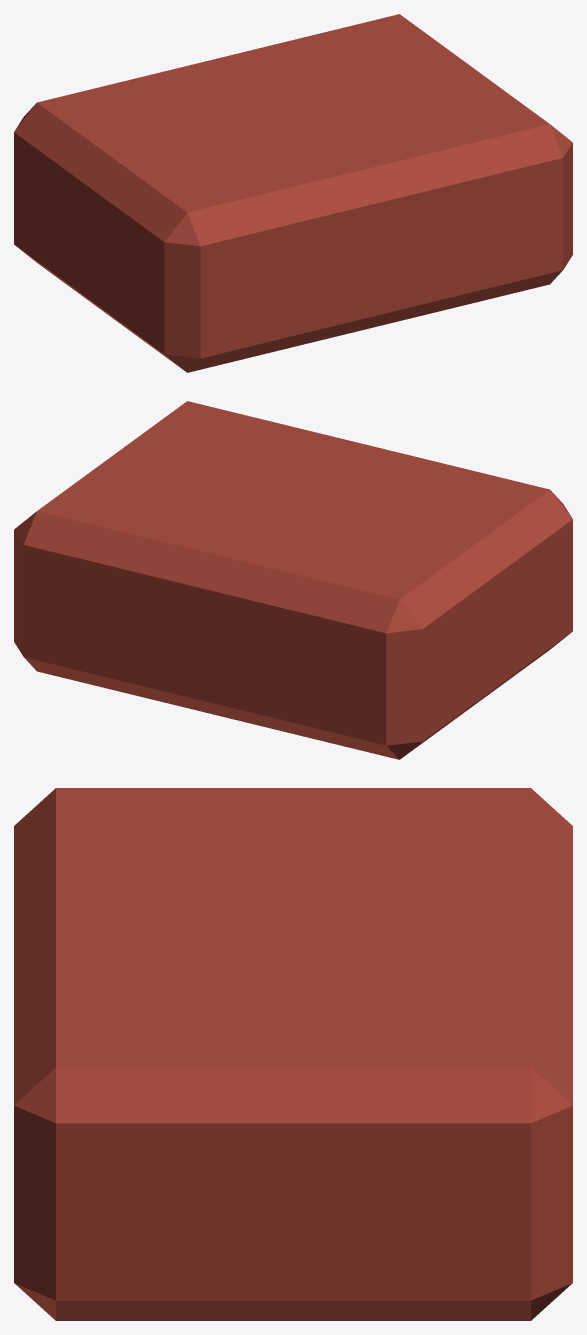
The model's file is D-RES.w1.glb.
3 views of the same model, one above another, from view 1: azimuth 30°, elevation 25°; view 2: azimuth 150°, elevation 25°; view 3: azimuth 270°, elevation 25° (orthographic). The views are drawn at different scales.
Parts seen in each view (by area): view 1: pal_brick; view 2: pal_brick; view 3: pal_brick.
Part boxes in pixels (<box>): pal_brick: <box>14,14,572,372</box>; pal_brick: <box>14,401,572,759</box>; pal_brick: <box>14,788,572,1320</box>.
Bounding box in the file's own units: 0.8 × 0.3 × 0.6.
